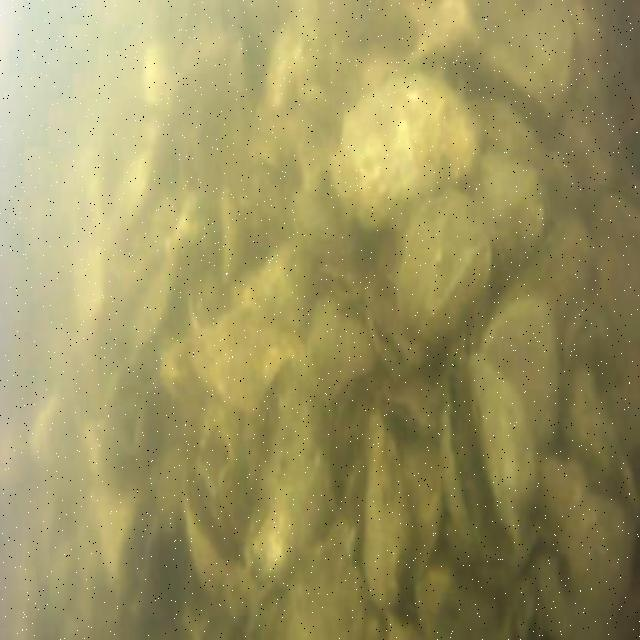Oyster-Closed: (333, 72, 485, 226), (246, 380, 334, 560), (400, 190, 489, 352), (250, 532, 363, 640), (481, 297, 561, 428), (362, 411, 412, 613), (482, 18, 572, 119), (475, 149, 542, 281), (572, 505, 639, 617), (301, 290, 366, 396), (423, 567, 494, 640)
Oyster-Open: (440, 353, 538, 579)
